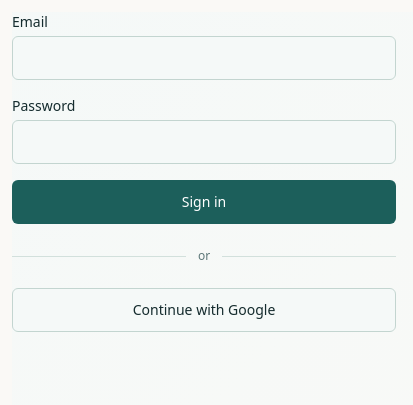
Test case: SignInForm › shows a generic error on a failed sign-in — never distinguishes the reason
Type "owner@vg-eval.test" into the field labelled "Email". click: (204, 58)
box: [12, 36, 396, 80]
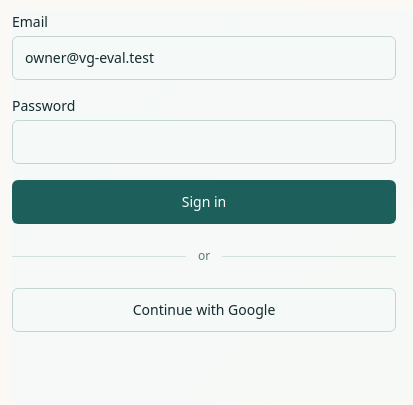
Type "wrong" into the password field labelled "Password". click: (204, 142)
box: [12, 120, 396, 164]
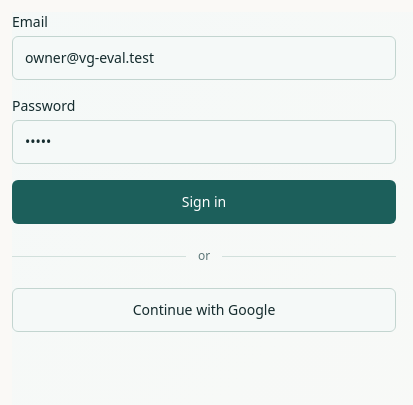
Click the button "Sign in". click: (204, 202)
box: [12, 180, 396, 224]
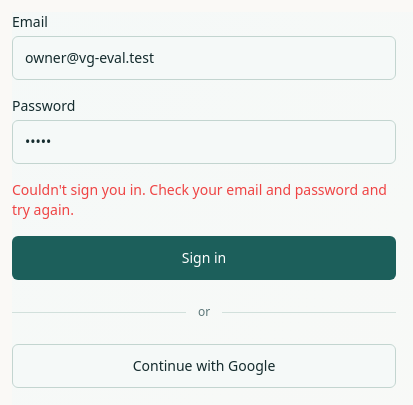
Expected: the message shows "Couldn't sign you in", [12, 180, 387, 219]
